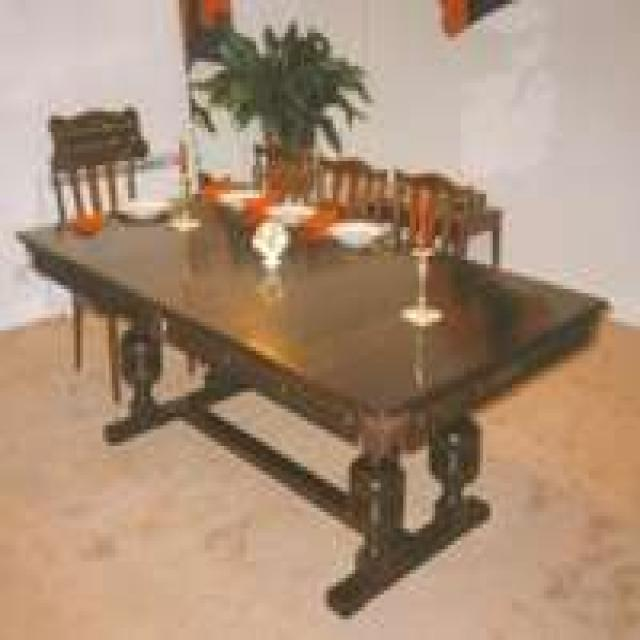table: (16, 188, 622, 631)
